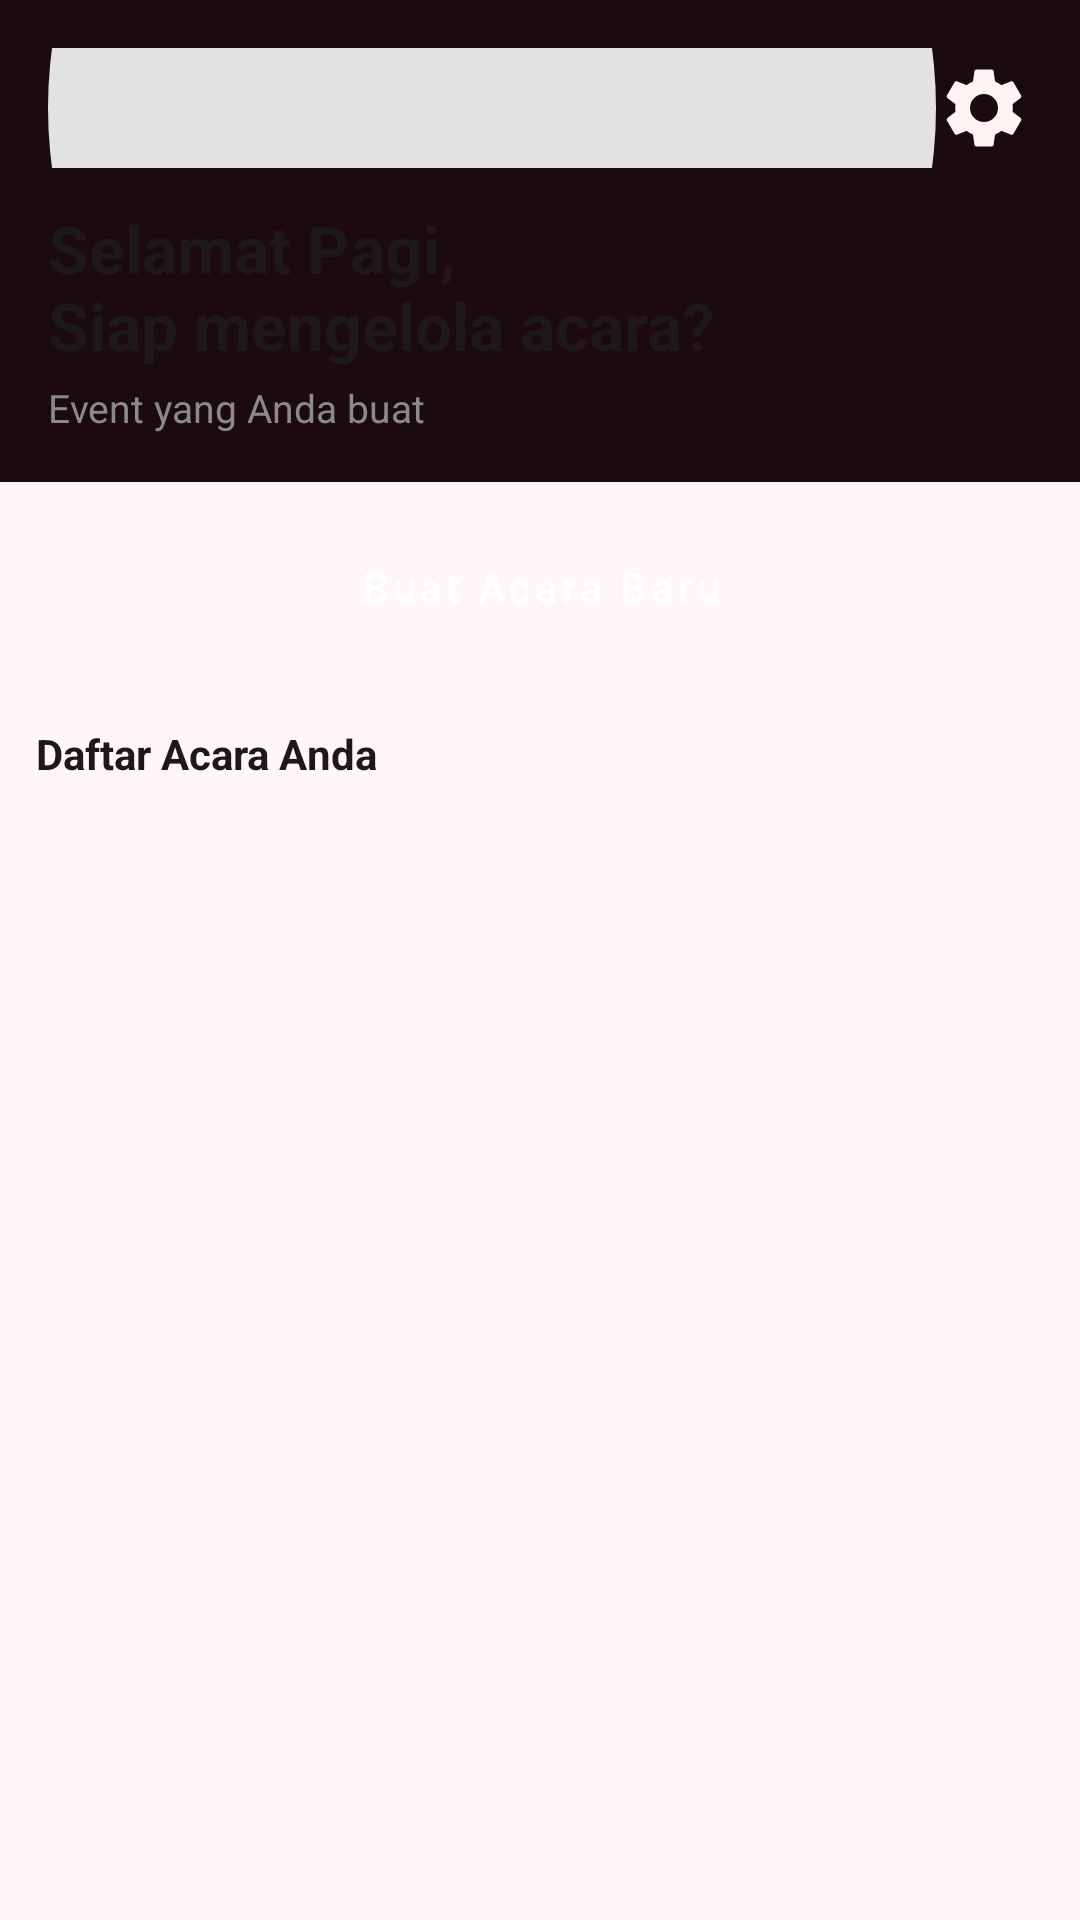

Icons on this 1080w x 1920h Android screen, each with the point to tap as [x,y]:
Pengaturan: [984,108]
